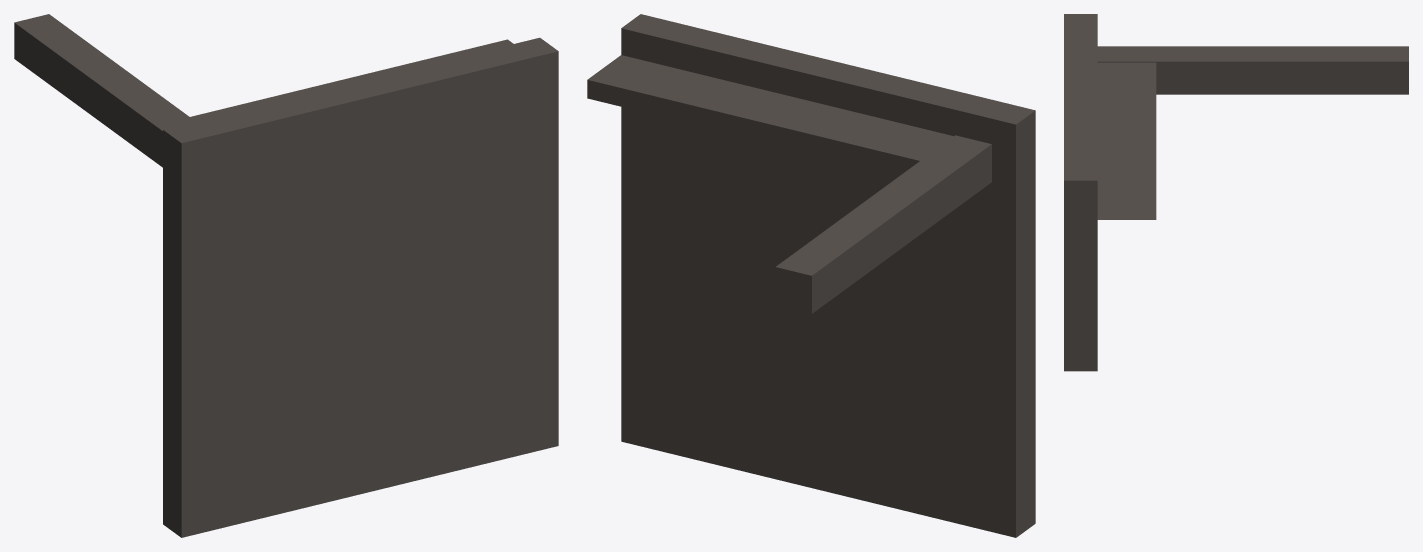
Rendered from pz_table_tables_high_02_large_dark_0_1.obj.
3 renders of one model, left to right at view 1: azimuth 30°, elevation 25°; view 2: azimuth 150°, elevation 25°; view 3: azimuth 270°, elevation 25°, orthographic. The views are drawn at different scales.
Size of the model in its own units: 0.875 by 0.875 by 0.7655.
1 material, 1 textured.
